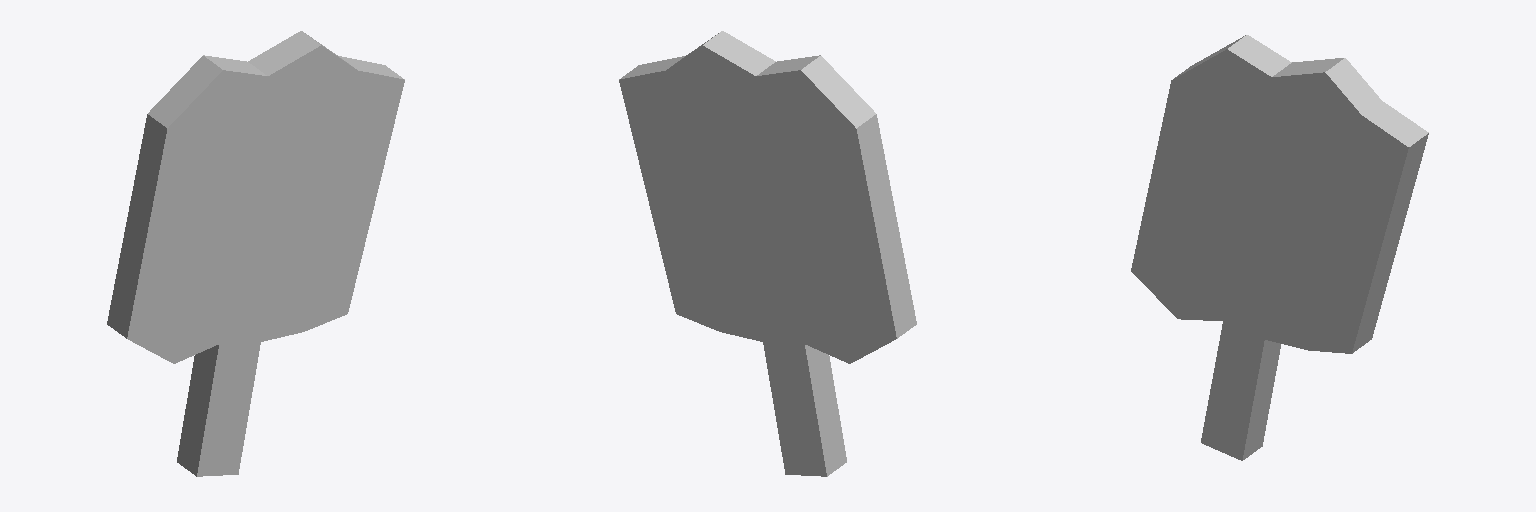
The model's file is Letrero.obj.
The picture shows the model from 3 angles: view 1: azimuth 30°, elevation 25°; view 2: azimuth 150°, elevation 25°; view 3: azimuth 330°, elevation 25°; orthographic projection.
Parts seen in each view (by area): view 1: Letreto_Cube; view 2: Letreto_Cube; view 3: Letreto_Cube.
Boxes of the visible parts, x1,y1,x2,y2 form: Letreto_Cube: [107, 31, 404, 476]; Letreto_Cube: [619, 31, 916, 476]; Letreto_Cube: [1131, 35, 1428, 460].
Bounding box in the file's own units: 2.14 × 3.01 × 0.2693.